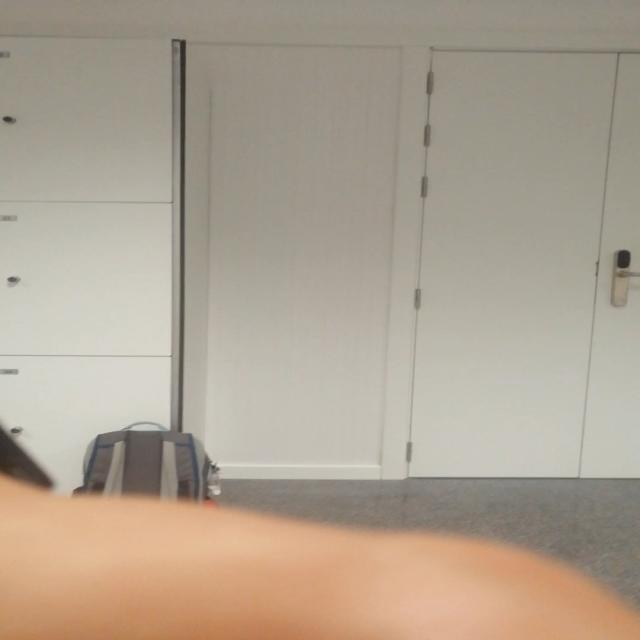door_handle: (615, 271, 640, 279)
